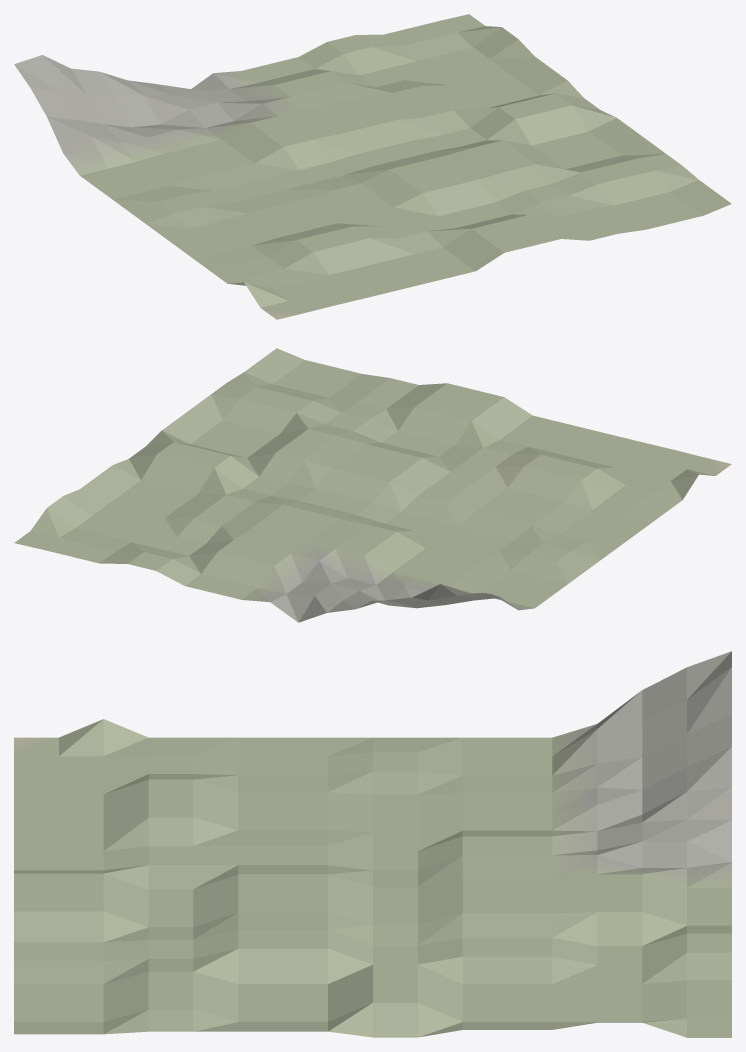
The picture shows the model from 3 angles, top to bottom: view 1: azimuth 30°, elevation 25°; view 2: azimuth 150°, elevation 25°; view 3: azimuth 270°, elevation 25°; orthographic projection. The views are drawn at different scales.
Size of the model in its own units: 32 by 4.94 by 32.
